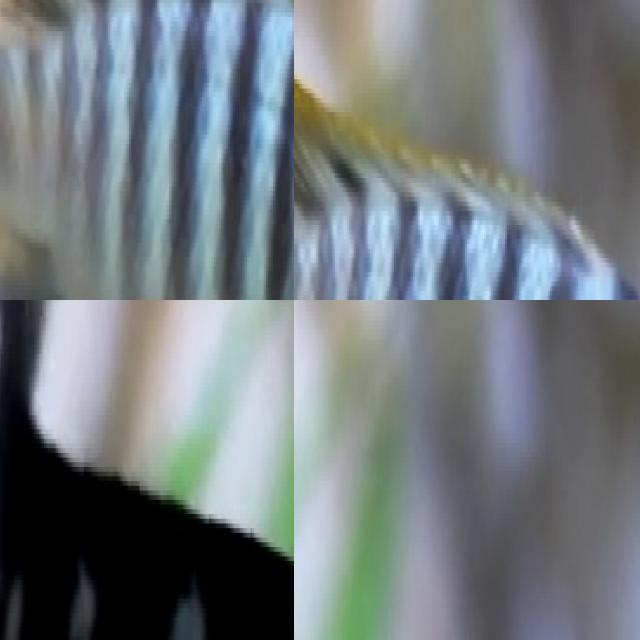fish: (294, 8, 640, 300), (0, 300, 294, 640), (0, 0, 294, 300)
